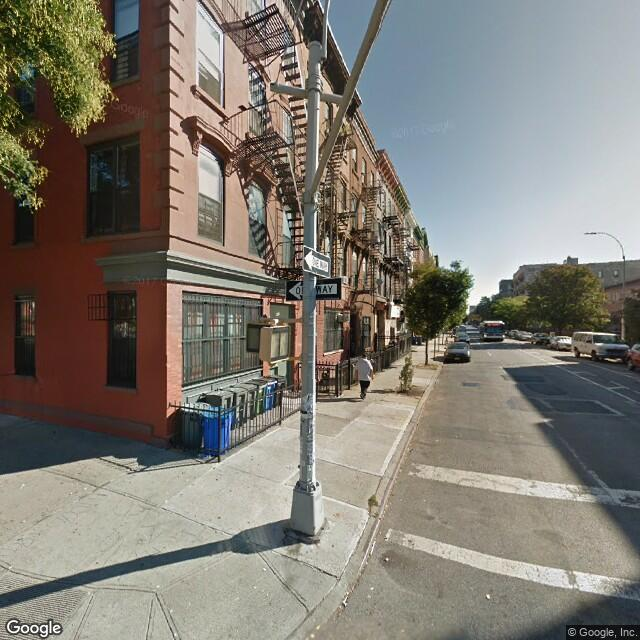litter: (479, 588, 513, 608), (18, 473, 34, 496)
